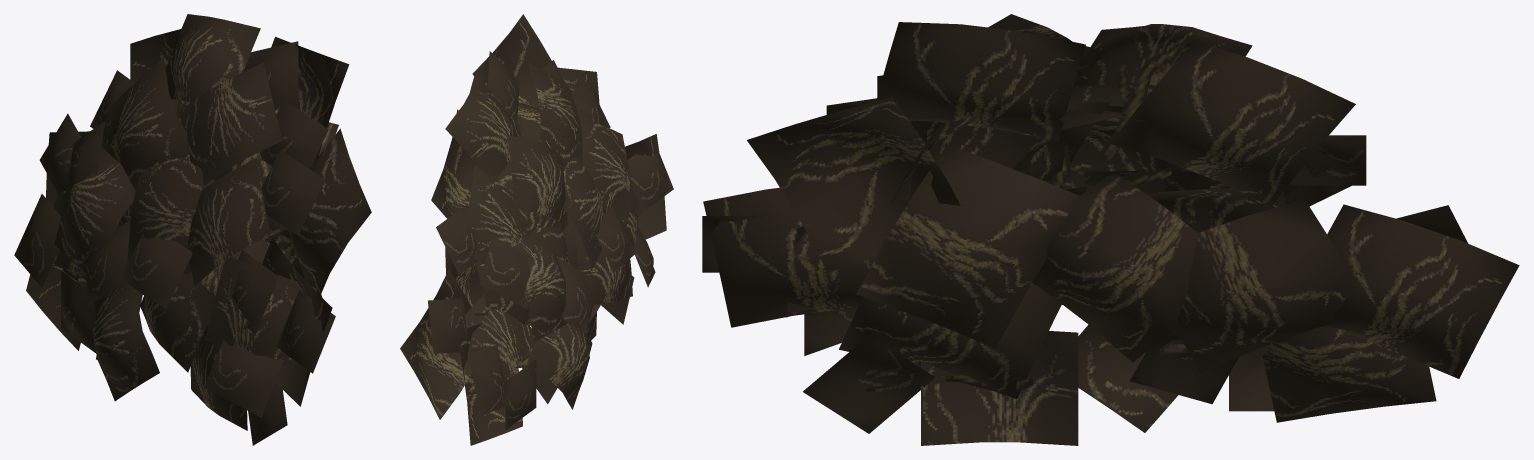
File: EnvFldMD_Tree_G_Mangrove_Leaf_Light.FBX
3 views of the same model, side by side, from view 1: azimuth 30°, elevation 25°; view 2: azimuth 150°, elevation 25°; view 3: azimuth 270°, elevation 25° (orthographic). The views are drawn at different scales.
Visible parts, largest first — view 1: EnvFldMD_Tree_G_Mangrove_Leaf_Light; view 2: EnvFldMD_Tree_G_Mangrove_Leaf_Light; view 3: EnvFldMD_Tree_G_Mangrove_Leaf_Light.
Part boxes in pixels (box(x1,y1,x2,y2)): EnvFldMD_Tree_G_Mangrove_Leaf_Light: box(14, 14, 371, 445); EnvFldMD_Tree_G_Mangrove_Leaf_Light: box(400, 14, 673, 445); EnvFldMD_Tree_G_Mangrove_Leaf_Light: box(702, 14, 1519, 445).
Bounding box in the file's own units: 299 × 608 × 882.
Materials: 1 (1 with a texture image).
